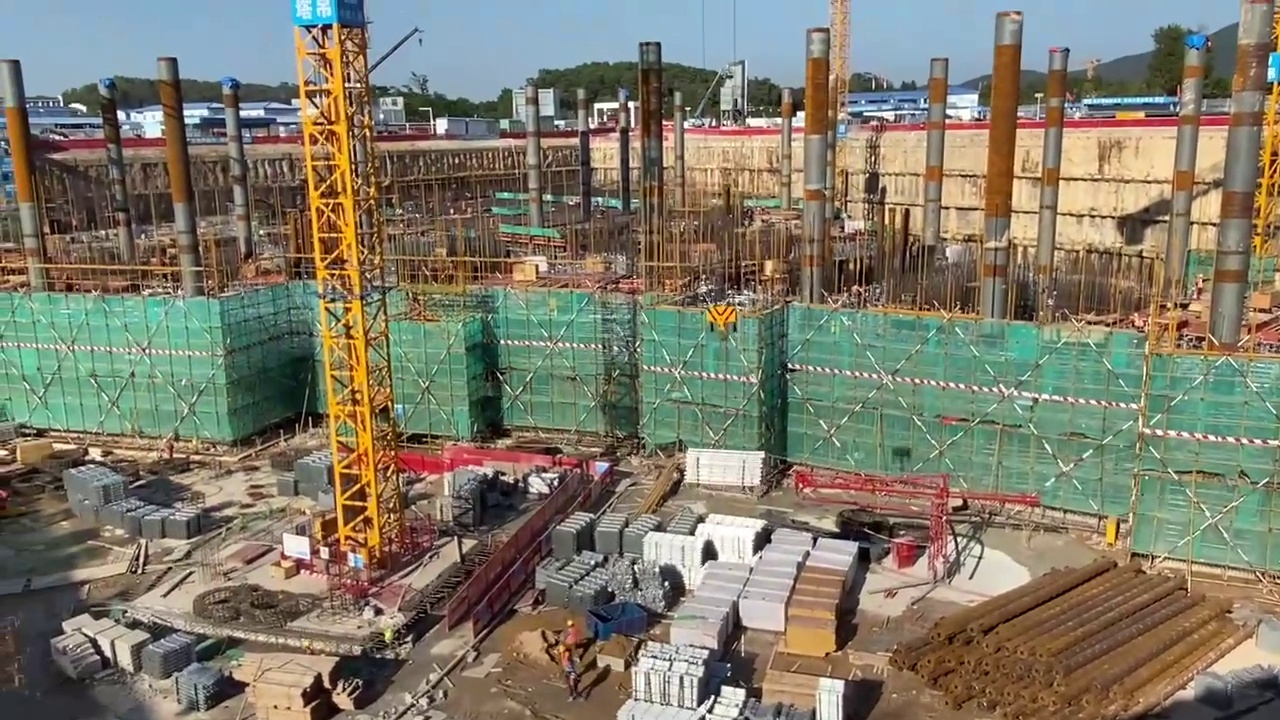board: (787, 563, 841, 649)
fence: (440, 443, 613, 487)
hook: (706, 305, 739, 328)
person: (564, 620, 582, 662), (563, 666, 581, 701), (556, 645, 572, 681)
rebar: (899, 552, 1253, 711)
scaffold: (548, 555, 666, 610), (630, 639, 716, 706), (551, 509, 647, 555), (108, 501, 206, 544), (692, 511, 774, 561), (69, 467, 121, 539), (683, 448, 761, 488), (645, 538, 700, 590), (175, 663, 225, 711), (293, 446, 333, 502), (144, 632, 193, 677)
wood: (252, 651, 343, 720)
